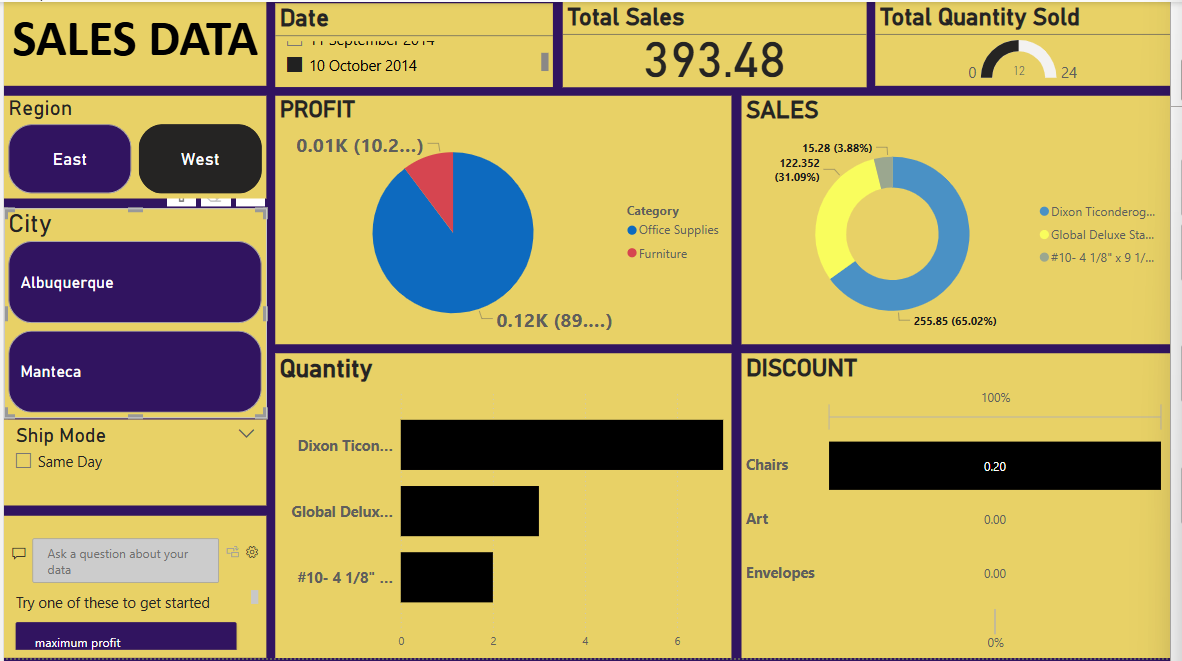

What the dashboard file says about the page in this screenshot:
{"tool":"powerbi","page":{"name":"Page 1","canvas":[1280,720],"ordinal":0},"visuals":[{"type":"textbox","box":[0,0,288.2,91.9],"z":0},{"type":"advancedSlicerVisual","fields":{"Values":["Sample - Superstore.City"]},"box":[0,226.4,288.2,230.5],"z":1000},{"type":"slicer","title":"Date ","fields":{"Values":["Sample - Superstore.Order Date"]},"box":[297.8,1.4,306,91.9],"z":2000},{"type":"advancedSlicerVisual","fields":{"Values":["Sample - Superstore.Region"]},"box":[0,102.9,288.2,112.5],"z":3000},{"type":"slicer","fields":{"Values":["Sample - Superstore.Ship Mode"]},"box":[0,458.3,288.2,94.7],"z":4000},{"type":"pieChart","title":"PROFIT","fields":{"Y":["Sum(Sample - Superstore.Profit)"],"Category":["Sample - Superstore.Category"]},"box":[297.8,102.9,500.9,273.1],"z":5000},{"type":"clusteredBarChart","title":"Quantity","fields":{"Category":["Sample - Superstore.Product Name"],"Y":["Sum(Sample - Superstore.Quantity)"]},"box":[297.8,385.6,500.9,334.8],"z":6000},{"type":"donutChart","title":"SALES","fields":{"Y":["Sum(Sample - Superstore.Sales)"],"Category":["Sample - Superstore.Product Name"]},"box":[809.6,102.9,470.7,273.1],"z":7000},{"type":"funnel","title":"DISCOUNT","fields":{"Y":["Sum(Sample - Superstore.Discount)"],"Category":["Sample - Superstore.Sub-Category"]},"box":[809.6,385.6,470.7,334.8],"z":8000},{"type":"qnaVisual","box":[0,564,288,156],"z":9000},{"type":"gauge","title":"Total Quantity Sold","fields":{"Y":["Sum(Sample - Superstore.Quantity)"]},"box":[956.4,0,323.8,91.9],"z":10000},{"type":"card","title":"Total Sales","fields":{"Values":["Sum(Sample - Superstore.Sales)"]},"box":[613.4,0,333.4,93.3],"z":11000}]}

Visuals, with their boxes in screenshot pixels (x1, y1, x2, y2):
textbox: pyautogui.locateOnScreen(3, 0, 264, 83)
advancedSlicerVisual - Sample - Superstore.City: pyautogui.locateOnScreen(3, 205, 264, 414)
"Date " slicer: pyautogui.locateOnScreen(273, 1, 550, 85)
advancedSlicerVisual - Sample - Superstore.Region: pyautogui.locateOnScreen(3, 93, 264, 195)
slicer - Sample - Superstore.Ship Mode: pyautogui.locateOnScreen(3, 415, 264, 501)
"PROFIT" pieChart: pyautogui.locateOnScreen(273, 93, 727, 341)
"Quantity" clusteredBarChart: pyautogui.locateOnScreen(273, 350, 727, 653)
"SALES" donutChart: pyautogui.locateOnScreen(737, 93, 1164, 341)
"DISCOUNT" funnel: pyautogui.locateOnScreen(737, 350, 1164, 653)
qnaVisual: pyautogui.locateOnScreen(3, 511, 264, 653)
"Total Quantity Sold" gauge: pyautogui.locateOnScreen(870, 0, 1164, 83)
"Total Sales" card: pyautogui.locateOnScreen(559, 0, 861, 85)
